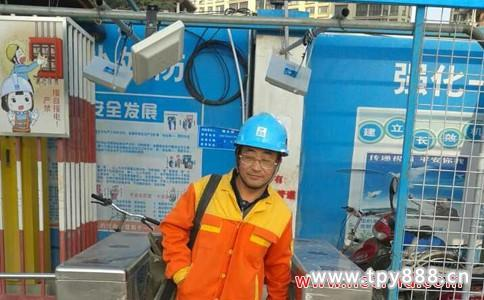helmet: (232, 116, 293, 153)
